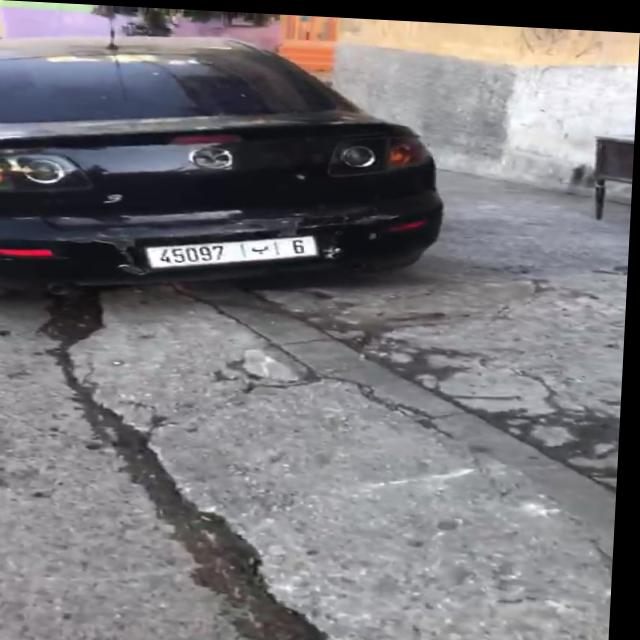License-Plate: (151, 232, 319, 265)
